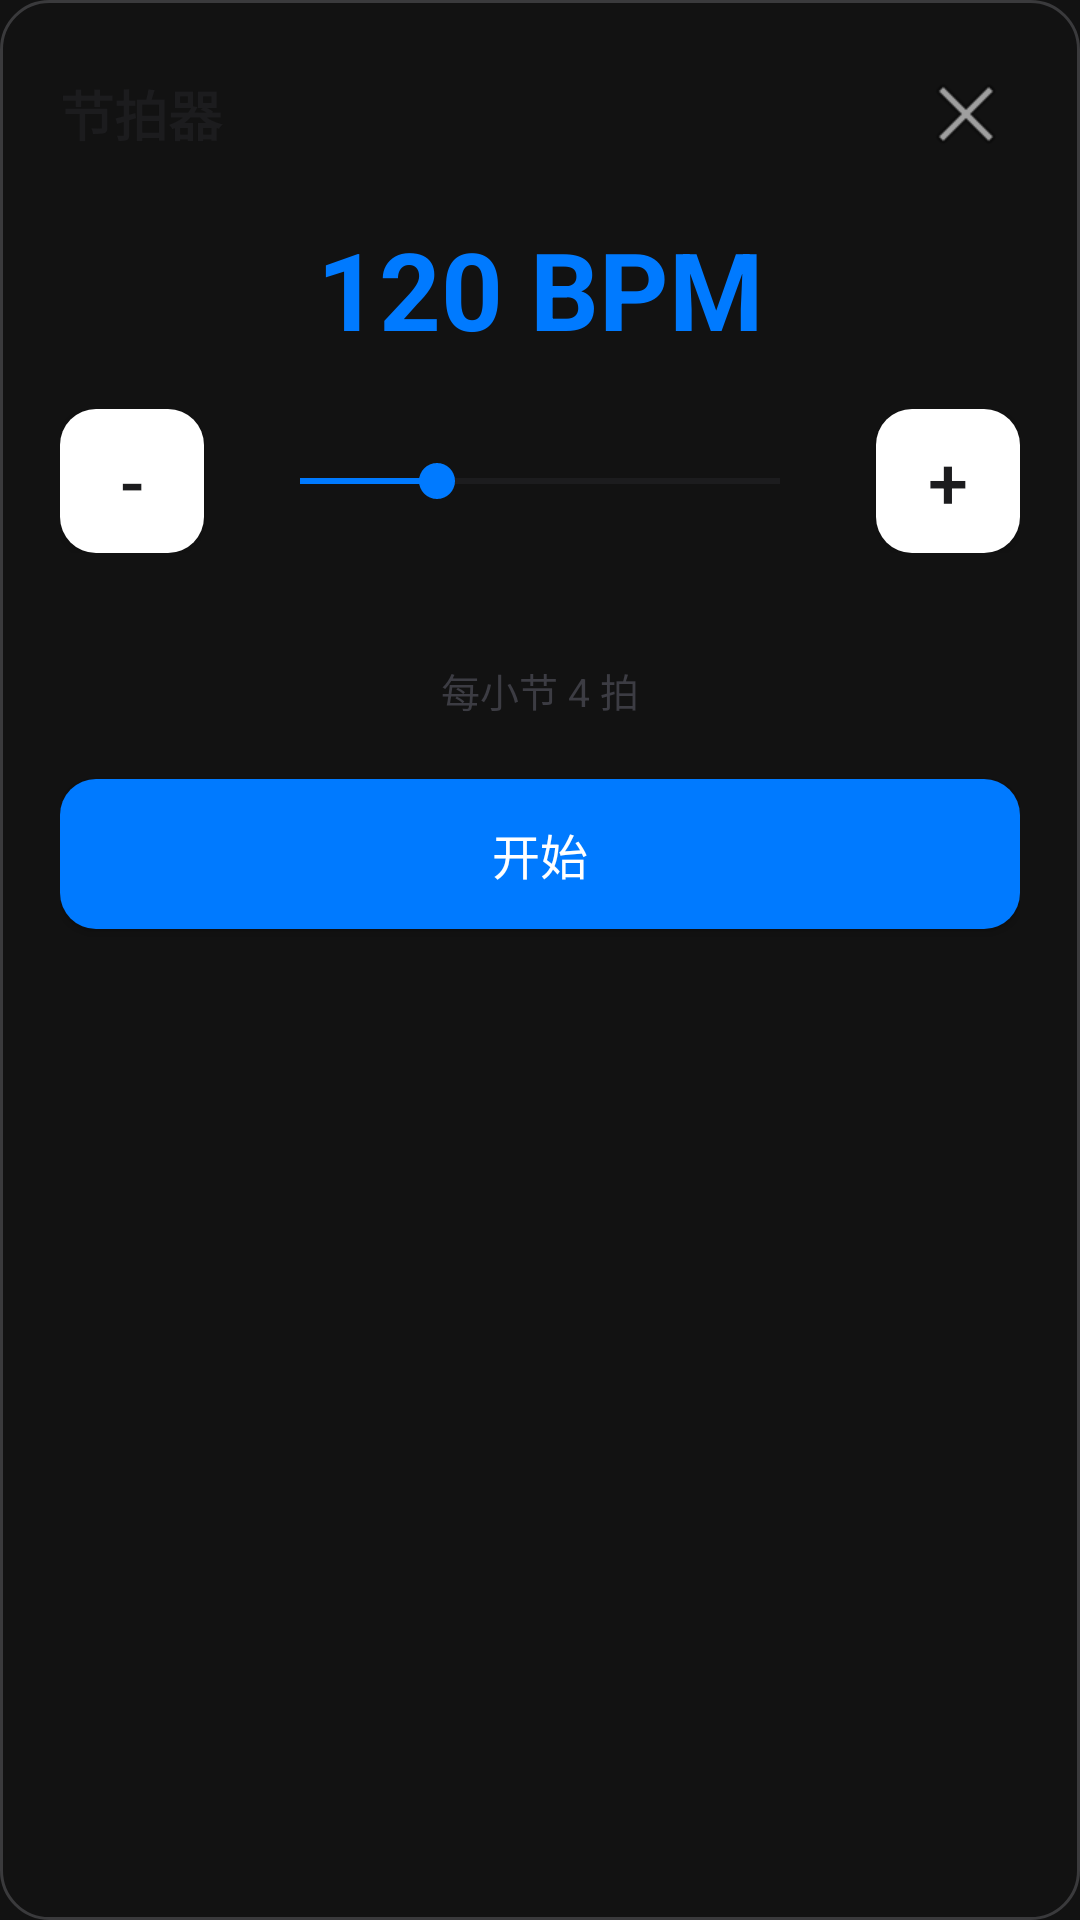

Where to tap for icons on this 1080 x 1920 app screen, as point (x, y):
关闭: point (966, 114)
